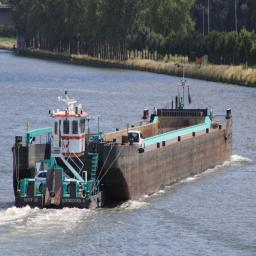tugboat: (11, 91, 107, 217)
